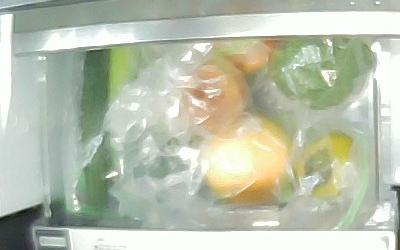apple_vinyl: (185, 59, 249, 129)
broccoli_vinyl: (270, 36, 374, 109)
cucumber_vinyl: (78, 49, 112, 218), (108, 46, 139, 105)
grapefruit_vinyl: (196, 113, 289, 202)
peach_vinyl: (207, 38, 279, 76)
persimmon_vinyl: (298, 130, 354, 197)
